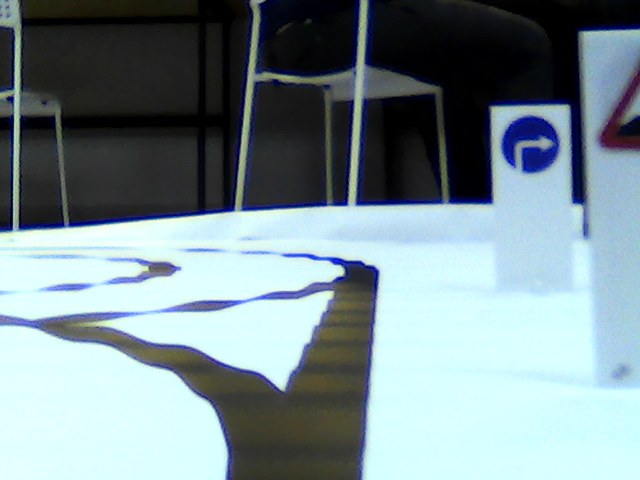Right: (501, 113, 561, 176)
